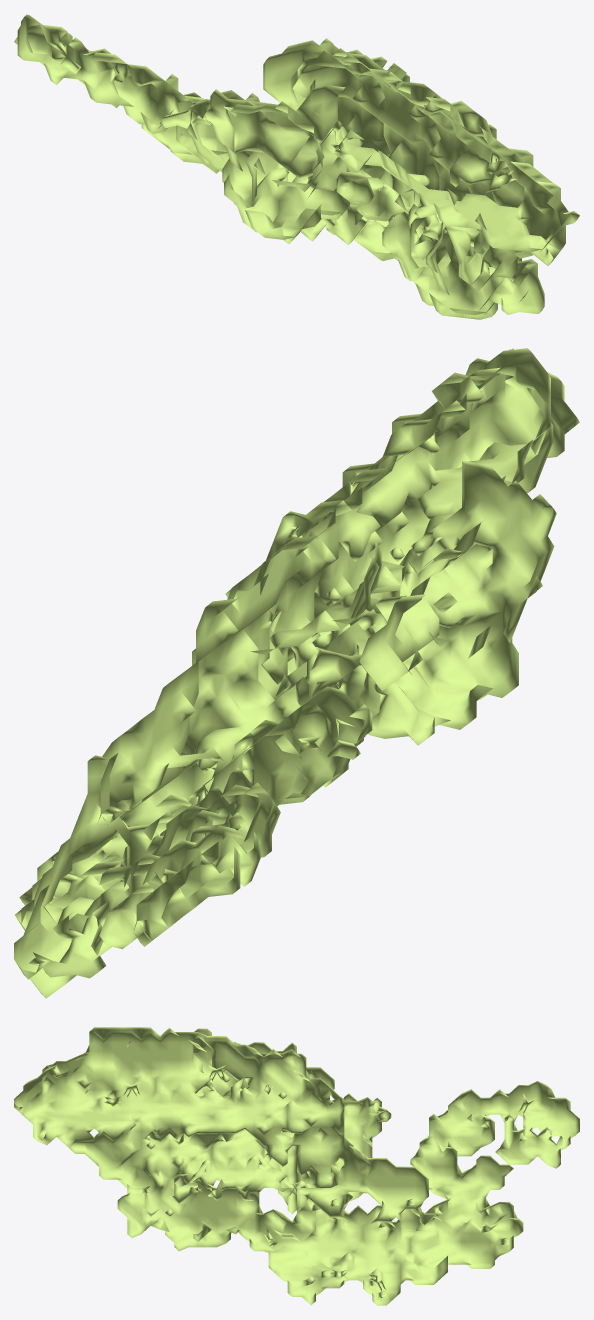
Rendered from osteocyte_66.glb.
The picture shows the model from 3 angles, top to bottom: view 1: azimuth 30°, elevation 25°; view 2: azimuth 150°, elevation 25°; view 3: azimuth 270°, elevation 25°; orthographic projection. The views are drawn at different scales.
Parts seen in each view (by area): view 1: osteocyte_66; view 2: osteocyte_66; view 3: osteocyte_66.
Part boxes in pixels (box(x1,y1,x2,y2)): osteocyte_66: box(14, 14, 579, 319); osteocyte_66: box(14, 348, 579, 998); osteocyte_66: box(14, 1027, 579, 1305).
Size of the model in its own units: 11.56 by 12.52 by 28.89.
